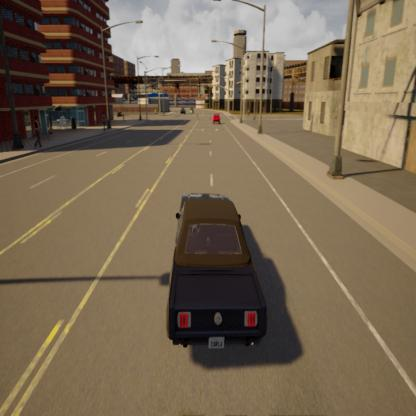Cars: (164, 188, 274, 349), (212, 111, 225, 134)
Pedestrian: (32, 113, 46, 156)
